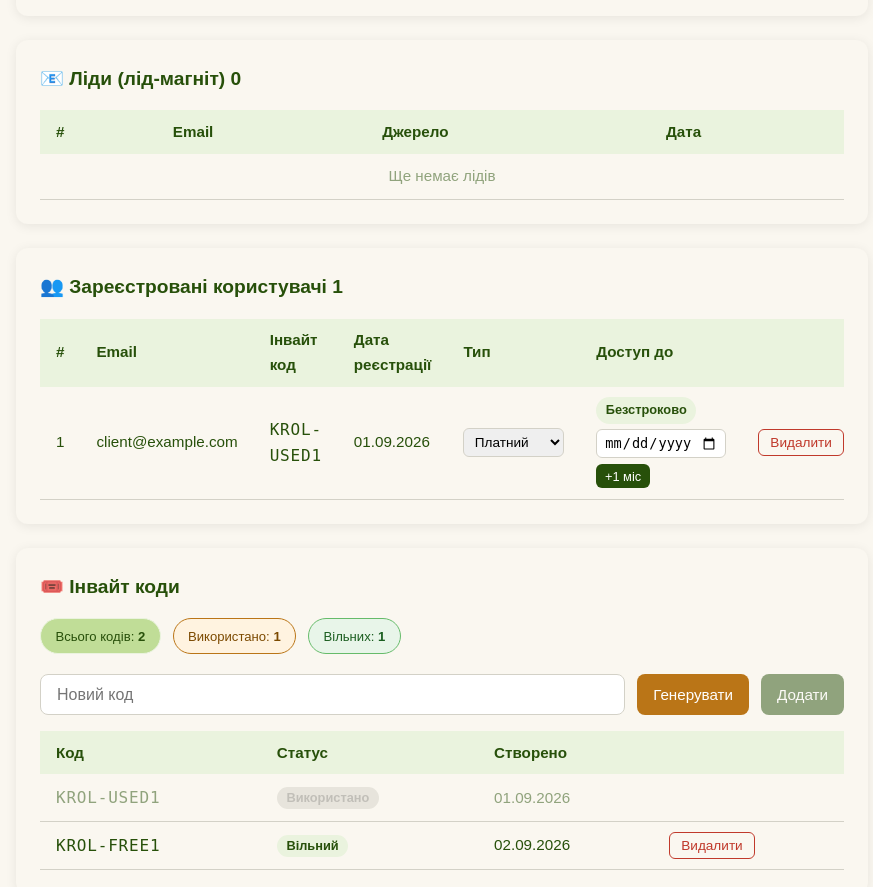
Test: Admin: видалення користувача › помилка видалення профілю: показує повідомлення і НЕ звільняє код запрошення
(page scrolled)
Click the button "Видалити" in the row of "client@example.com".
click(801, 443)  # box [758,429,844,456]
(page scrolled)
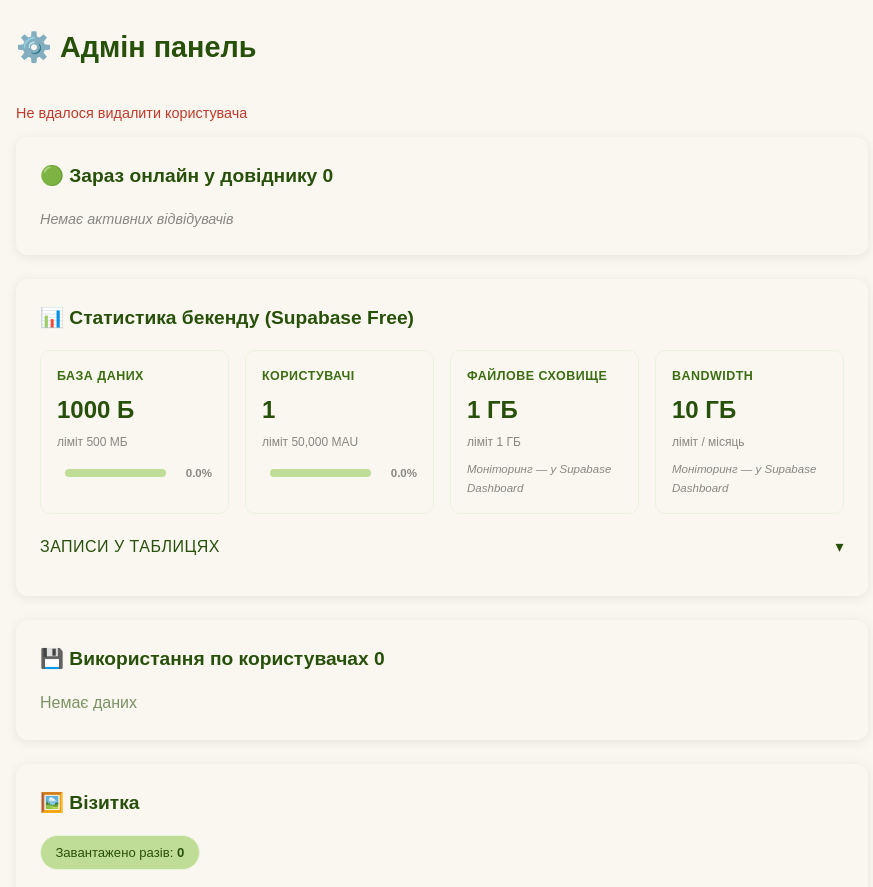
Result: the text "Не вдалося видалити користувача" is shown at [16,105,247,121]
